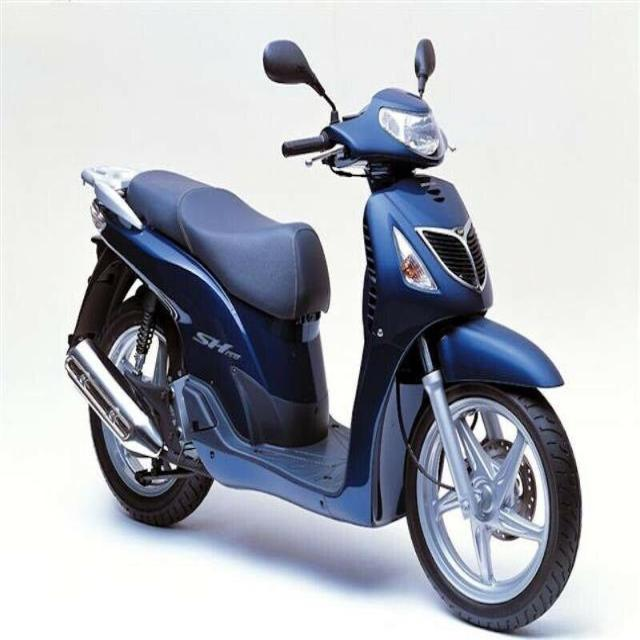Motorcycle: (65, 38, 582, 631)
